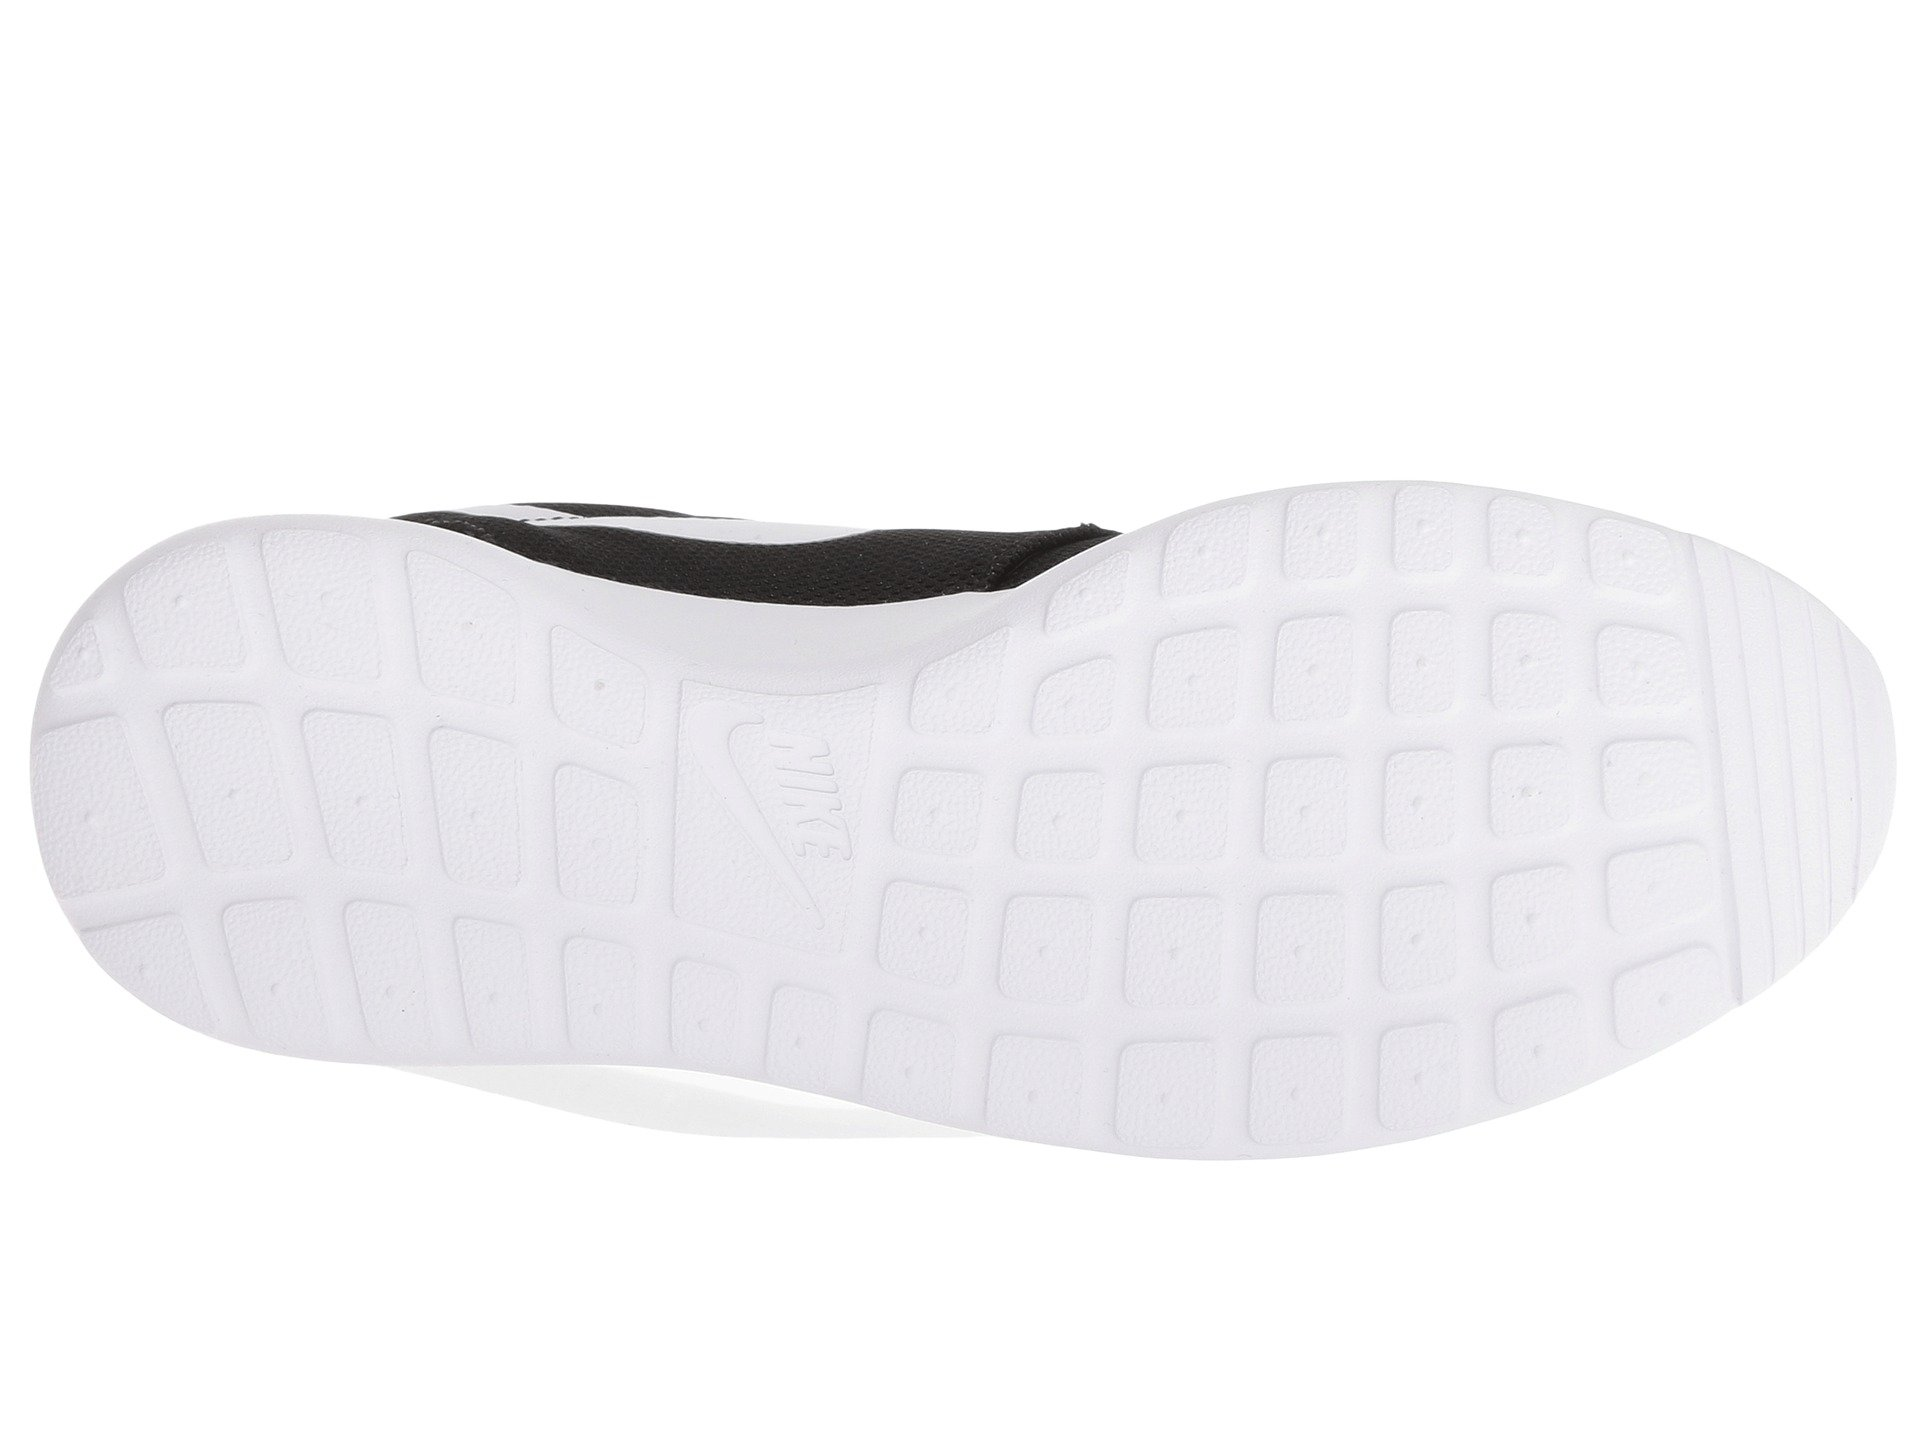exclude: (379, 14, 1157, 126)
quad: (1256, 62, 1672, 511), (881, 204, 1253, 622), (57, 135, 460, 467), (478, 254, 658, 445)
text: (668, 210, 841, 467)
